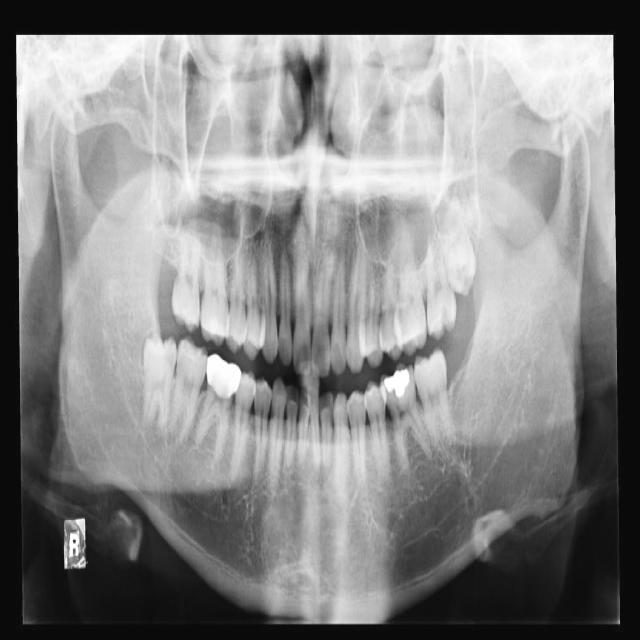Crown: (206, 355, 241, 400)
Filling: (383, 369, 411, 397)
impacted tooth: (142, 335, 178, 433), (444, 198, 478, 296)
